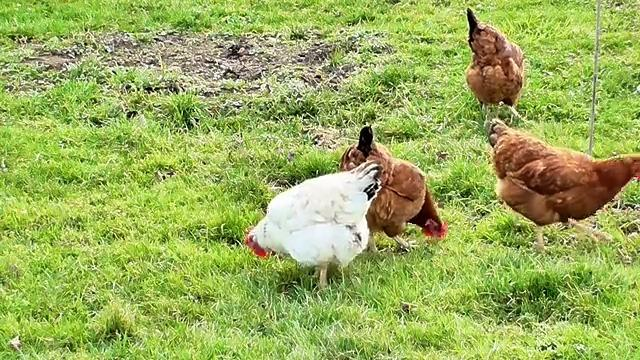Normal: (488, 124, 640, 250), (243, 156, 387, 280)
